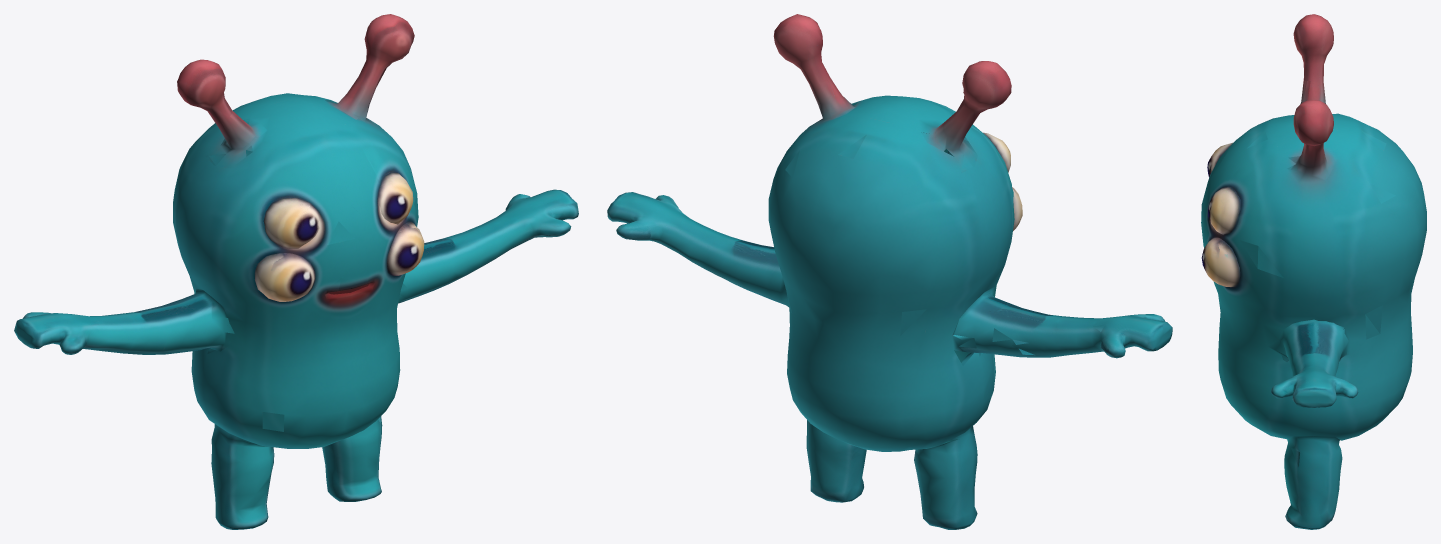
File: BlueAlien (1) 1.fbx
3 views of the same model, side by side, from view 1: azimuth 30°, elevation 25°; view 2: azimuth 150°, elevation 25°; view 3: azimuth 270°, elevation 25° (orthographic). The views are drawn at different scales.
Parts seen in each view (by area): view 1: mesh_node; view 2: mesh_node; view 3: mesh_node.
Boxes of the visible parts, x1,y1,x2,y2 form: mesh_node: (14,14,578,529); mesh_node: (607,14,1172,529); mesh_node: (1201,14,1426,529).
Bounding box in the file's own units: 100 × 82.42 × 38.57.
1 material, 1 textured.
